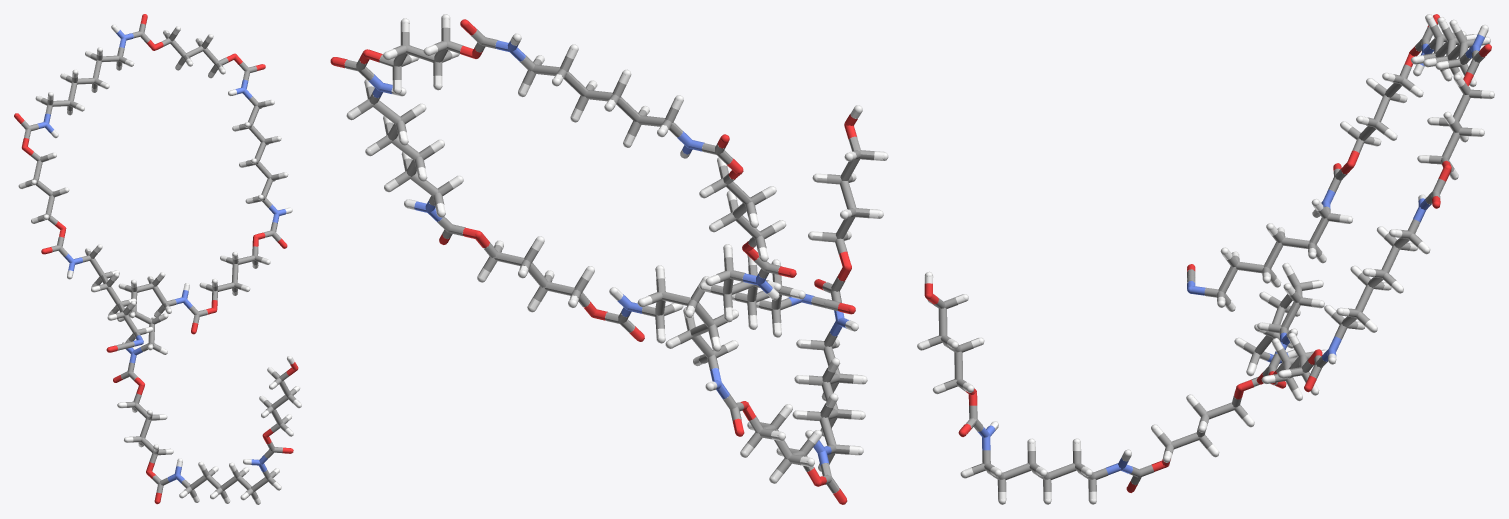
The model's file is PolyurethanLinearStick.gltf.
3 renders of one model, left to right at view 1: azimuth 30°, elevation 25°; view 2: azimuth 150°, elevation 25°; view 3: azimuth 270°, elevation 25°, orthographic. The views are drawn at different scales.
Size of the model in its own units: 0.5105 by 0.6986 by 0.6946.
